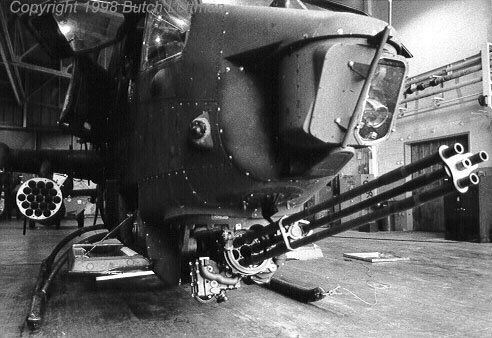rifle: (164, 135, 488, 300)
